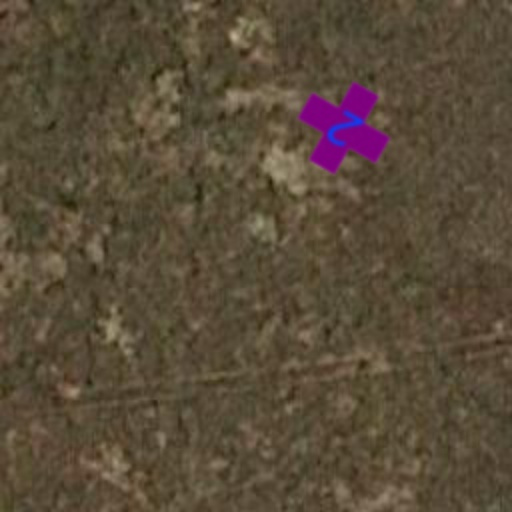cross: (280, 64, 408, 192)
